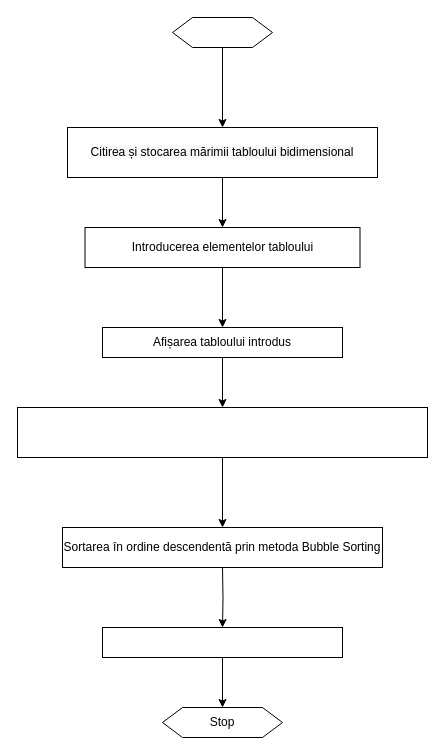
This 445x755 diagram has some shape labels left out. Each missing label, with the box of its shape:
Afișarea tabloului sortat: (102, 626, 342, 658)
Calcularea sumei elementelor pozitive pare în fiecare coloană: (16, 406, 428, 458)
Start: (172, 16, 272, 48)
